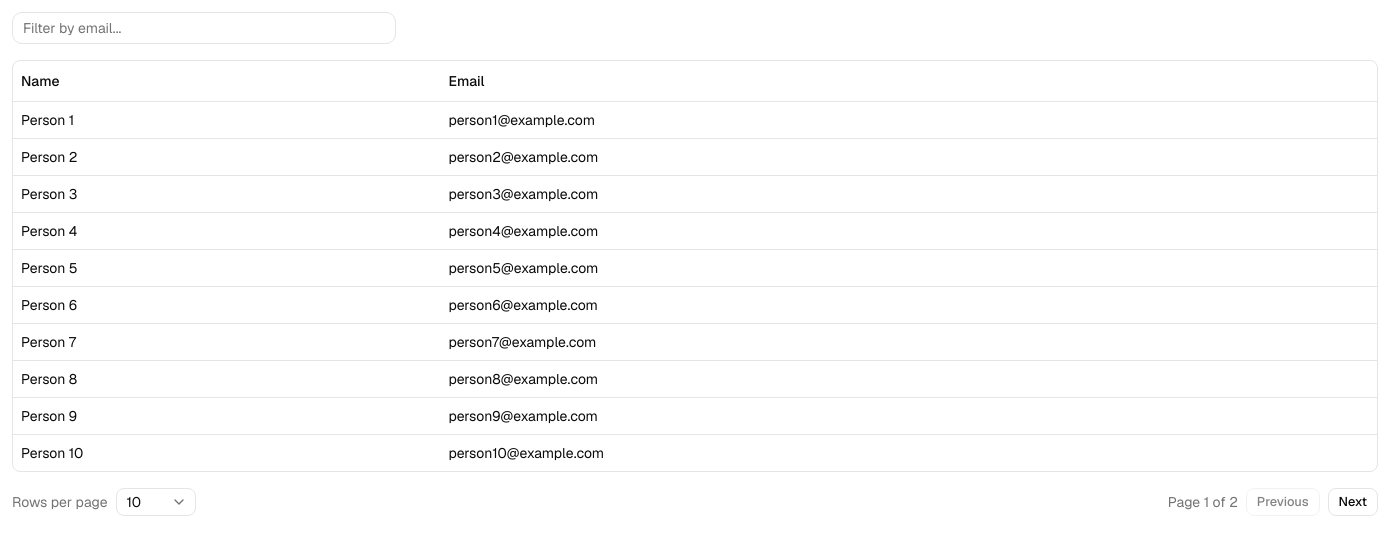
it: DataTable › filters rows through the filter input
In the field with placeholder "Filter by email...": (204, 28) 12,12 -> 396,44, type "person12@"
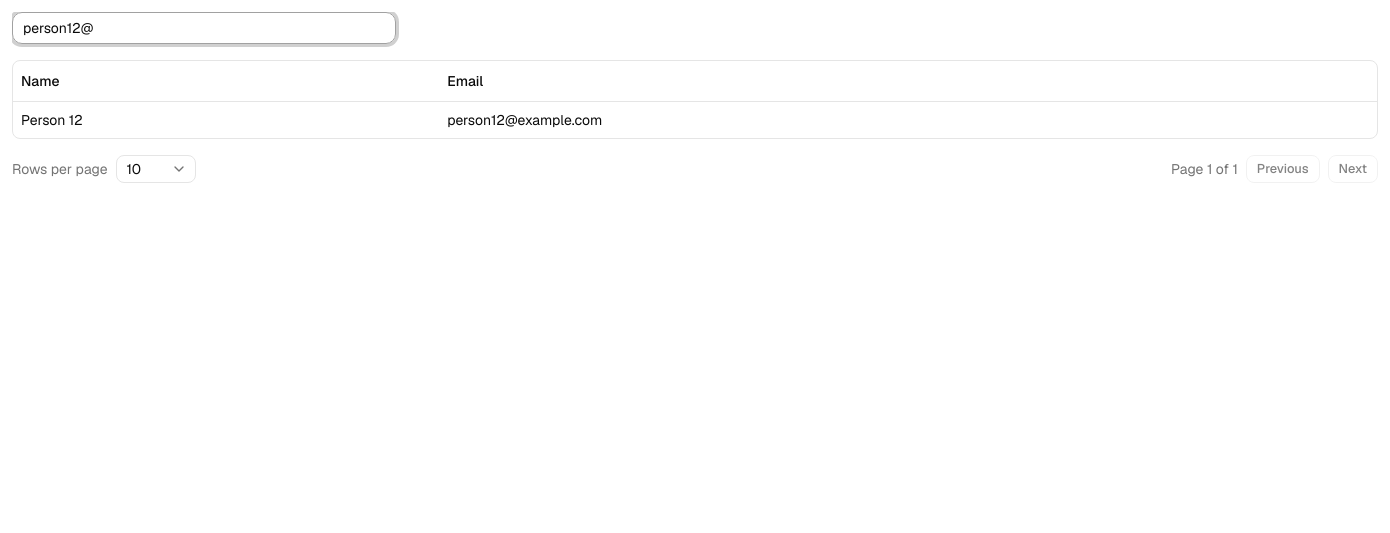
Expected: the text "Person 12" is shown, 13,101 -> 439,138
